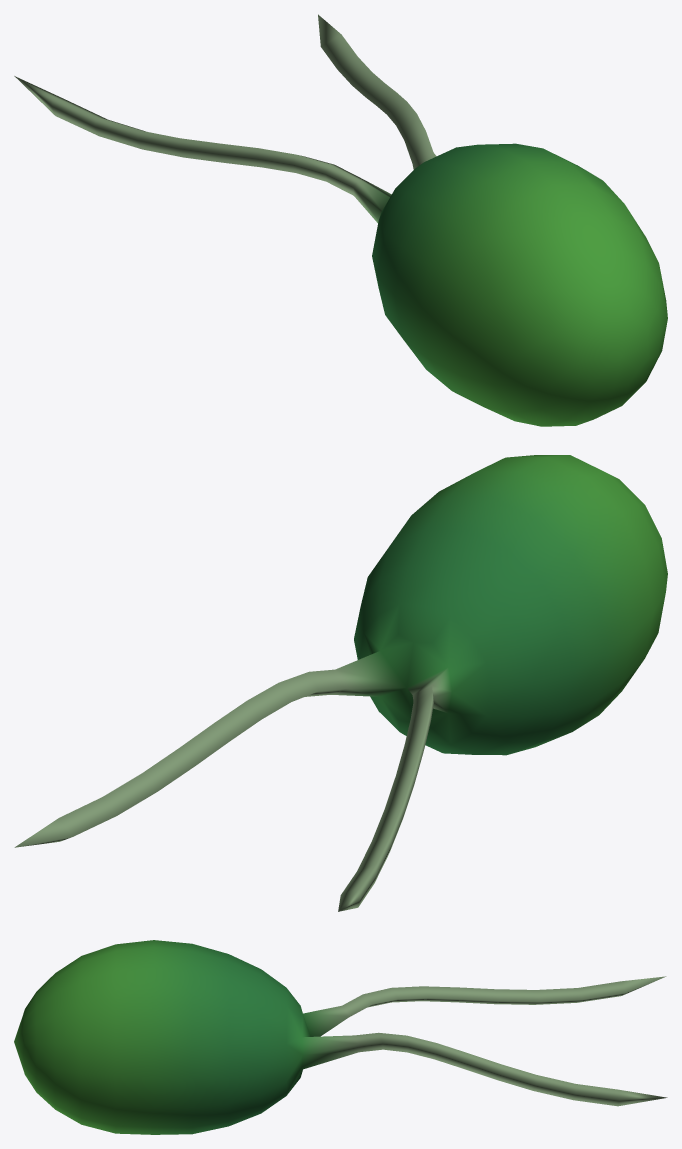
The model's file is microscopic-protists-green-algae-cell_v2.glb.
The picture shows the model from 3 angles, top to bottom: view 1: azimuth 30°, elevation 25°; view 2: azimuth 150°, elevation 25°; view 3: azimuth 270°, elevation 25°; orthographic projection. The views are drawn at different scales.
Parts seen in each view (by area): view 1: Green Algae Cell_v2; view 2: Green Algae Cell_v2; view 3: Green Algae Cell_v2.
Boxes of the visible parts, box(x1,y1,x2,y2) form: Green Algae Cell_v2: box(14, 14, 667, 426); Green Algae Cell_v2: box(14, 455, 667, 911); Green Algae Cell_v2: box(14, 940, 667, 1134).
Bounding box in the file's own units: 0.0403 × 0.0304 × 0.1.
